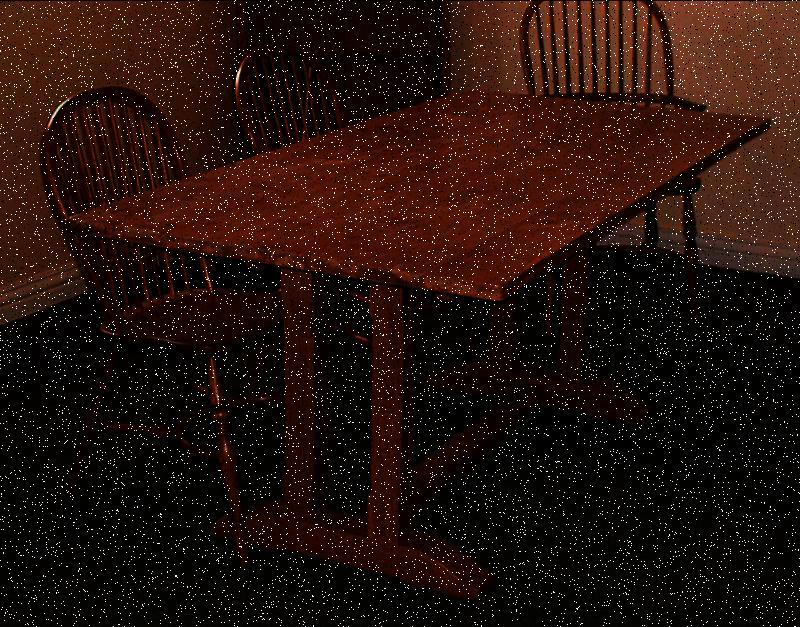Mesa: (52, 80, 783, 612)
Silla: (32, 77, 362, 570), (231, 38, 489, 415), (514, 0, 712, 333)
